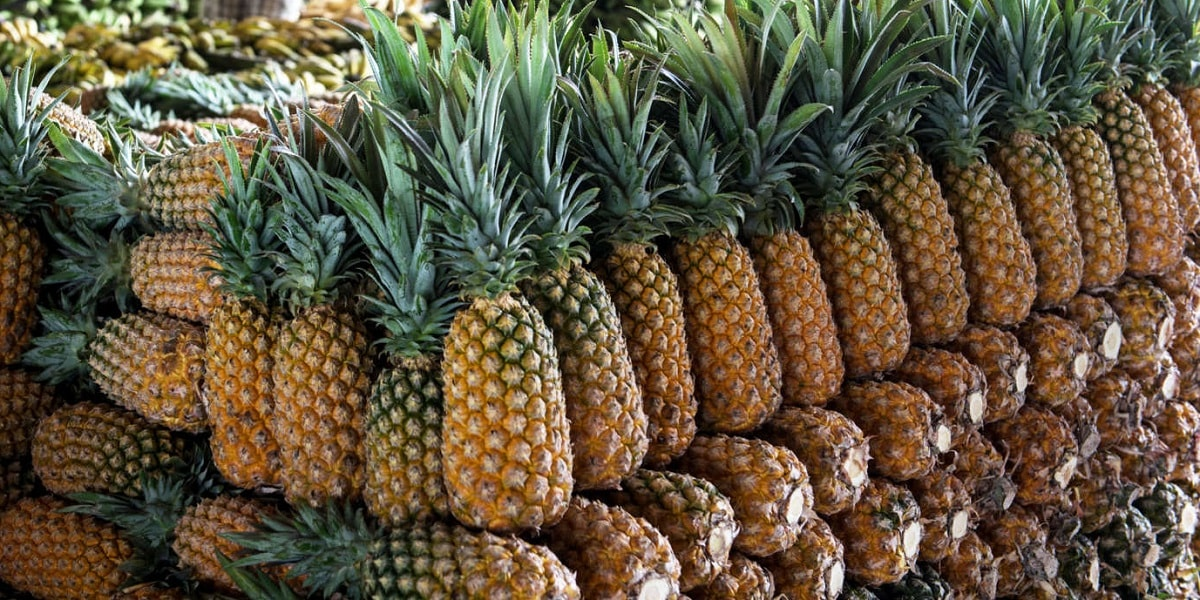pineapple: (439, 309, 566, 530), (669, 233, 775, 427), (807, 211, 915, 379), (274, 317, 365, 508), (28, 410, 182, 520), (938, 157, 1038, 323), (1096, 100, 1188, 280), (204, 305, 272, 494)
